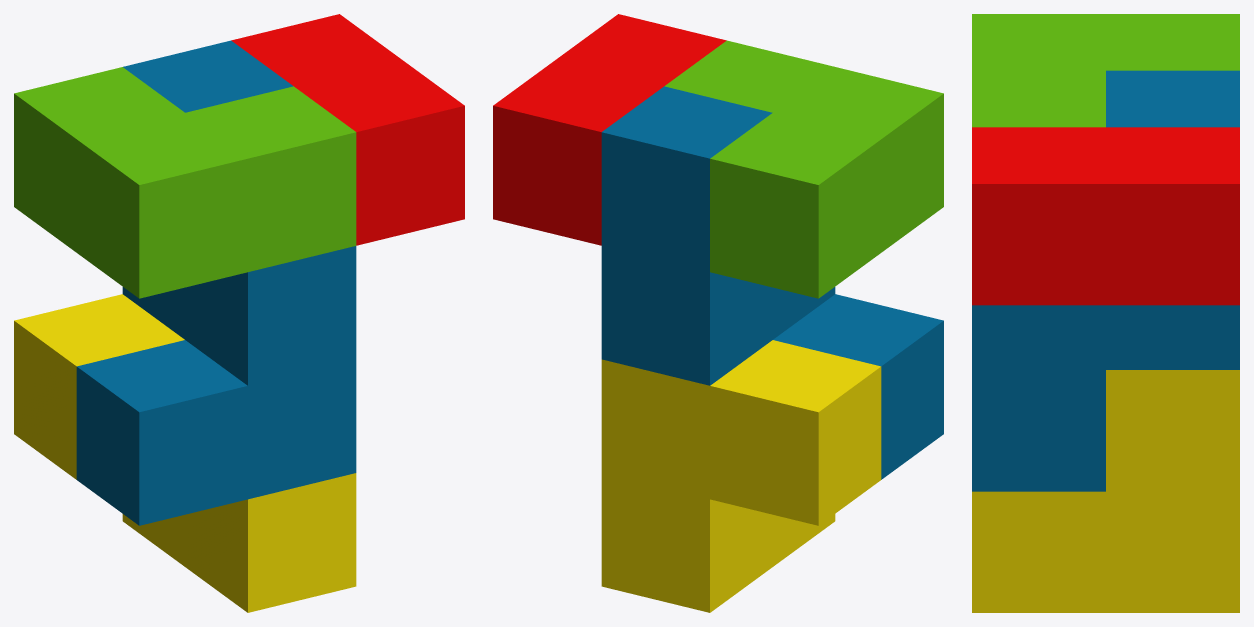
3 views of the same model, side by side, from view 1: azimuth 30°, elevation 25°; view 2: azimuth 150°, elevation 25°; view 3: azimuth 270°, elevation 25° (orthographic). The views are drawn at different scales.
Parts seen in each view (by area): view 1: mergedBlocks(Clone); view 2: mergedBlocks(Clone); view 3: mergedBlocks(Clone).
Boxes of the visible parts, x1,y1,x2,y2 form: mergedBlocks(Clone): (14, 14, 464, 612); mergedBlocks(Clone): (493, 14, 943, 612); mergedBlocks(Clone): (972, 14, 1239, 612).
Bounding box in the file's own units: 3 × 4 × 2.
4 materials, 4 textured.
